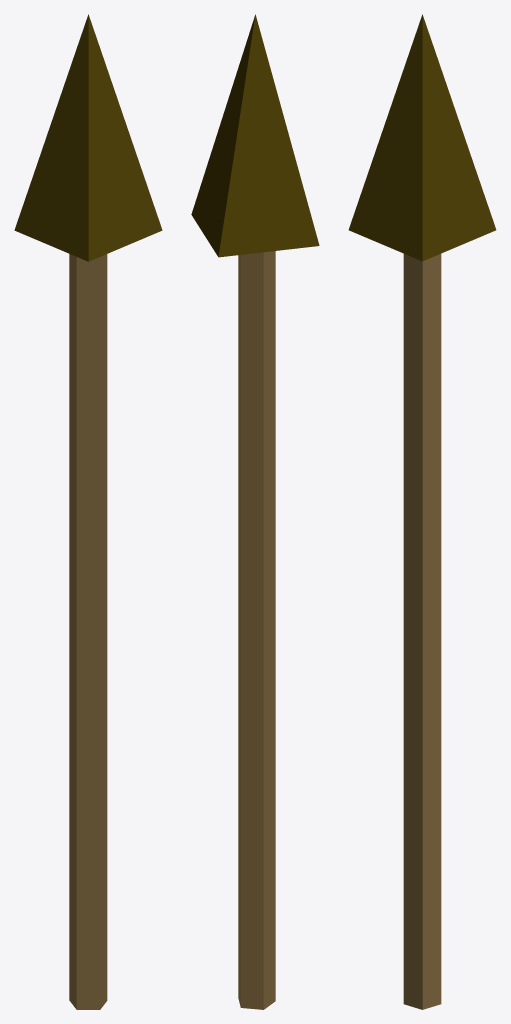
The model's file is Spear_Single.fbx.
3 renders of one model, left to right at view 1: azimuth 90°, elevation 25°; view 2: azimuth 150°, elevation 25°; view 3: azimuth 270°, elevation 25°, orthographic.
Parts seen in each view (by area): view 1: polySurface69; view 2: polySurface69; view 3: polySurface69.
Part boxes in pixels (x1,y1,x2,y2): polySurface69: (14, 14, 162, 1009); polySurface69: (191, 14, 319, 1009); polySurface69: (348, 14, 496, 1009).
Bounding box in the file's own units: 19.72 × 145 × 19.72.
